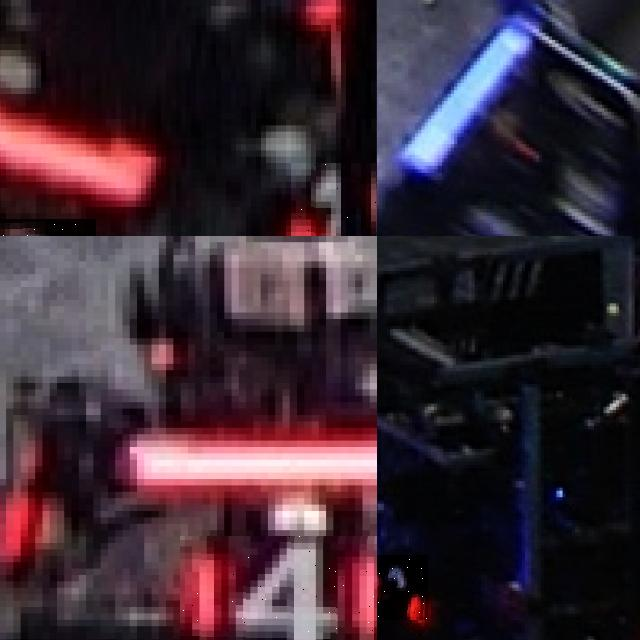R2: (377, 555, 427, 619)
R3: (291, 162, 376, 236)
R4: (180, 536, 377, 640)
